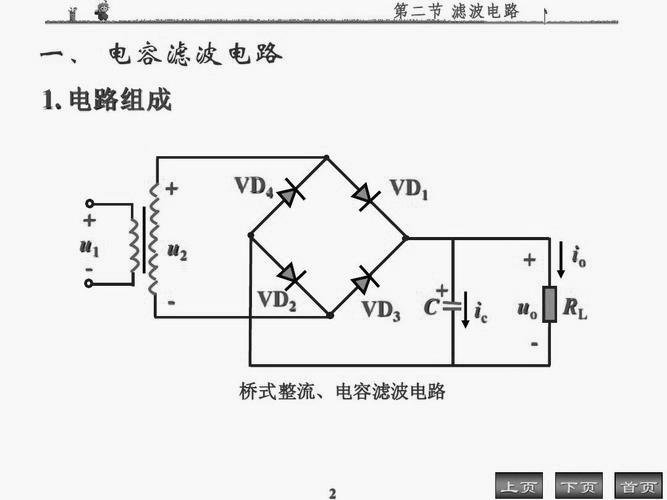bridge: (246, 157, 413, 321)
cap1: (441, 297, 464, 314)
res1: (539, 281, 560, 327)
trans: (126, 145, 165, 331)
